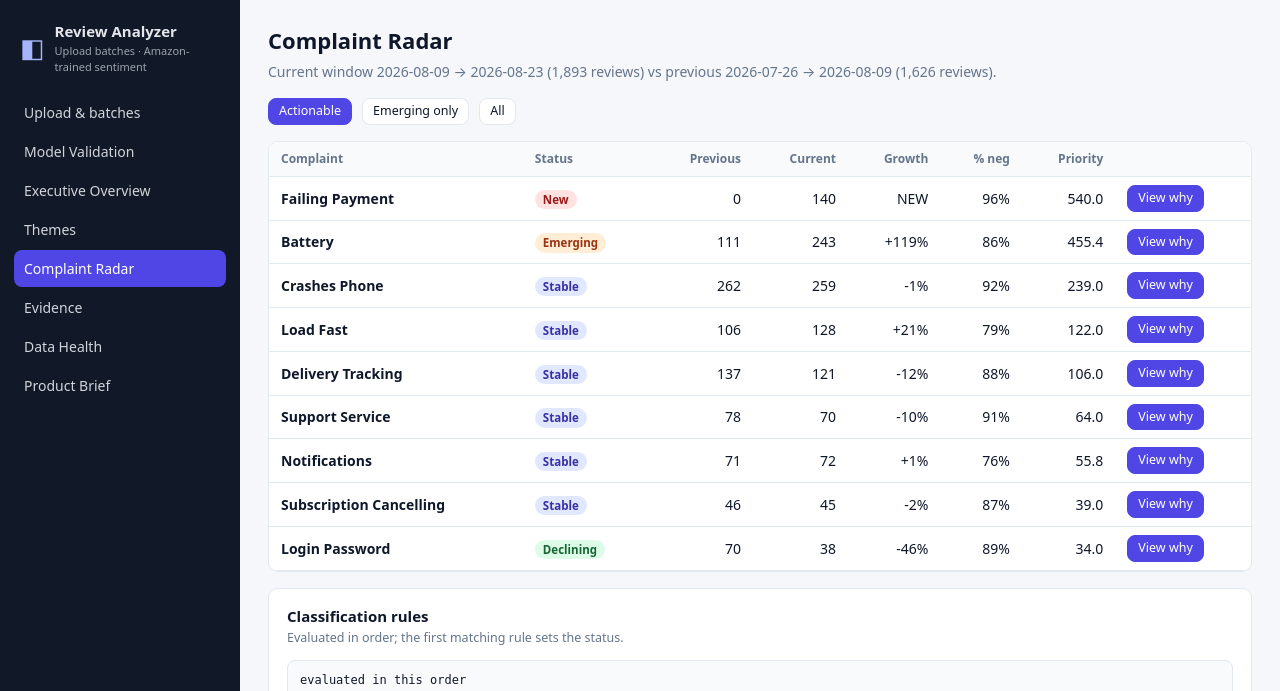
Scenario: Complaint Radar › VIEW WHY opens the calculation, reasons and evidence for an issue
Step 1. Click the button "View why" in the row of "Failing Payment" → (1166, 198), box [1127, 185, 1204, 212]
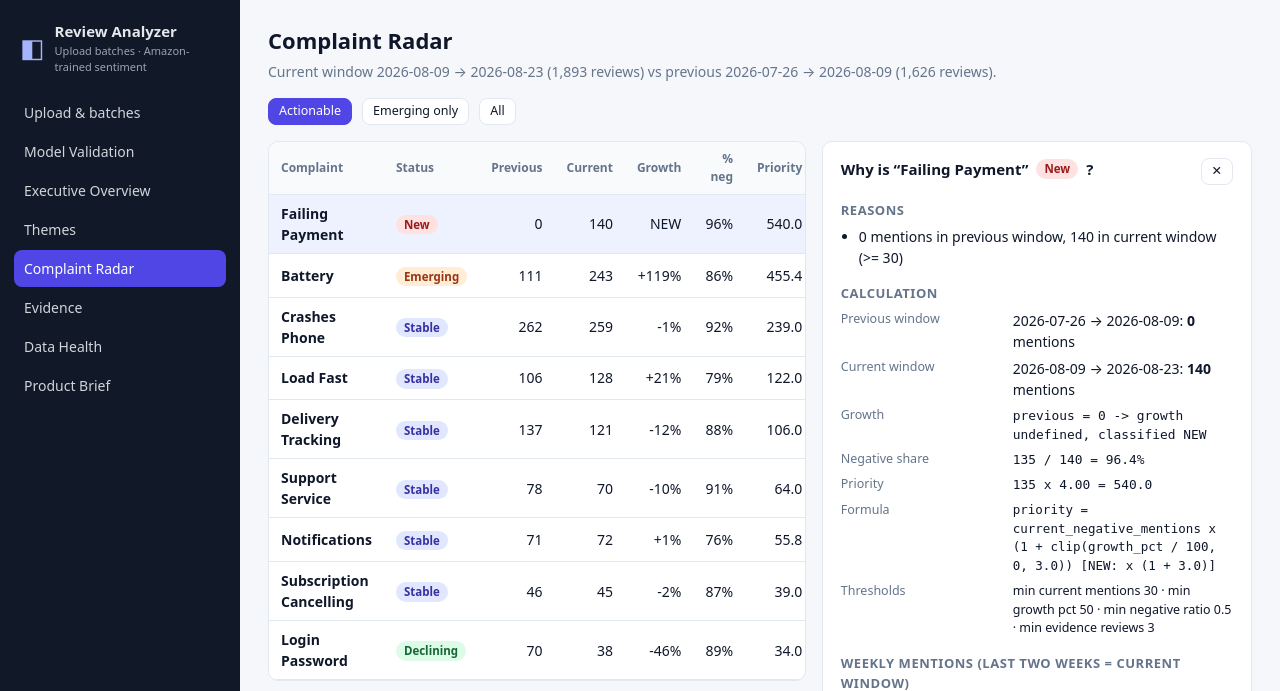
Check: the text "previous = 0 -> growth undefined, classified NEW" is shown, box [1013, 406, 1233, 444]
Check: the text "135 x 4.00 = 540.0" is shown, box [1013, 477, 1152, 492]
Check: the list item "0 mentions in previous window, 140 in current window (>= 30)" is shown, box [859, 226, 1233, 268]
